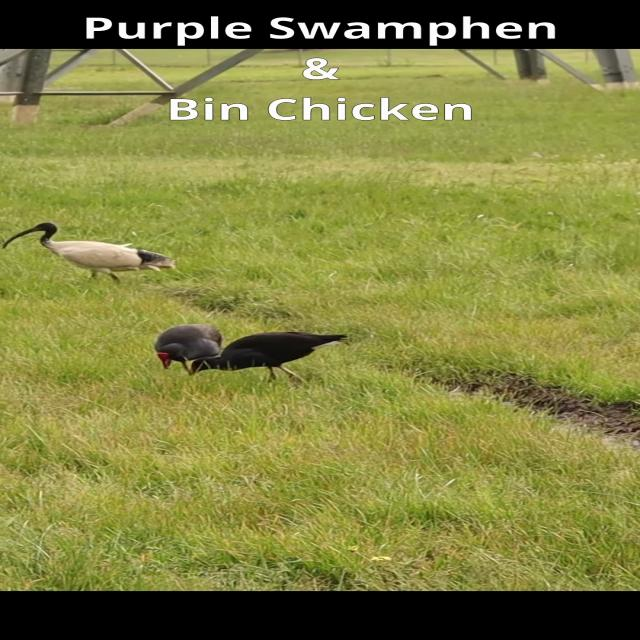Birds-Ibis: (1, 219, 180, 290)
Birds-Other: (185, 328, 353, 387), (152, 319, 226, 375)
